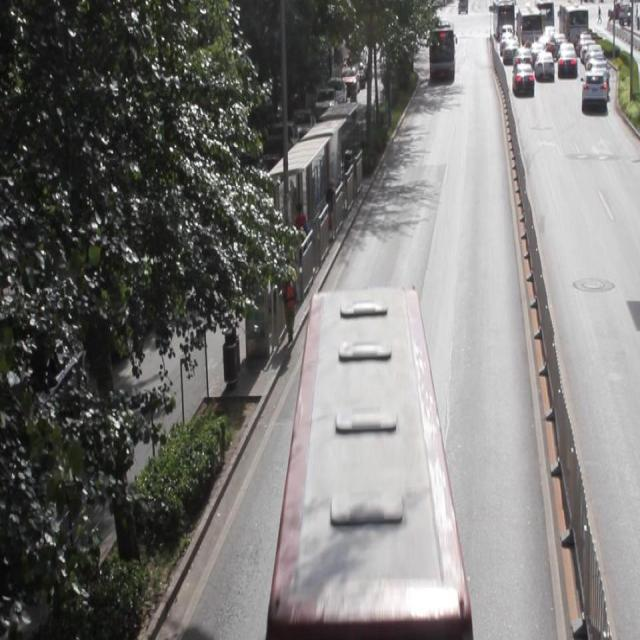van: (270, 285, 468, 640)
